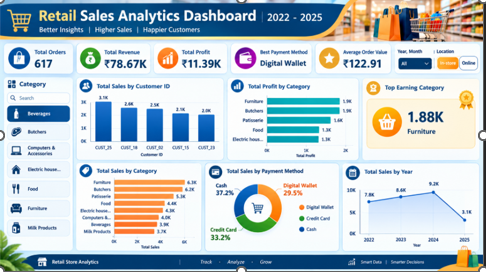

Layout of this report page (visuals, bound fields, positions):
{"tool":"powerbi","page":{"name":"Page 2","canvas":[1280,720],"ordinal":0},"visuals":[{"type":"clusteredBarChart","fields":{"Category":["Table1.Category"],"Y":["Table1.Total Sales"]},"box":[0,415,652.8,305.7],"z":0},{"type":"donutChart","fields":{"Category":["Table1.Payment Method"],"Y":["Table1.Total Sales"]},"box":[652.8,190.5,627.7,224.5],"z":1000},{"type":"lineChart","fields":{"Category":["Table1.Transaction Date.Variation.Date Hierarchy.Year","Table1.Transaction Date.Variation.Date Hierarchy.Month"],"Y":["Table1.Total Sales"]},"box":[0,204,653.1,224.6],"z":2000},{"type":"tableEx","fields":{"Values":["Table1.Transaction ID","Table1.Item","Sum(Table1.Price Per Unit)","Sum(Table1.Quantity)","Sum(Table1.Total Spent)"]},"box":[665.1,414.9,615.4,305.1],"z":3000},{"type":"textbox","box":[386.3,386.3,13.2,13.2],"z":4000},{"type":"textbox","box":[0,0,1280.5,70.2],"z":5000},{"type":"textbox","box":[0,99.5,399.5,14.6],"z":6000},{"type":"textbox","box":[99.5,99.5,300,14.6],"z":7000},{"type":"textbox","box":[0,70.2,1280.5,43.9],"z":8000},{"type":"cardVisual","fields":{"Data":["Table1.Total Sales"]},"box":[218.6,99,296.9,104.9],"z":9000},{"type":"cardVisual","fields":{"Data":["Table1.Total Orders"]},"box":[0,97.5,234.8,106.3],"z":10000},{"type":"cardVisual","fields":{"Data":["Table1.Average Order Value"]},"box":[491.8,91.6,259.9,96],"z":11000},{"type":"slicer","fields":{"Values":["Table1.Location"]},"box":[992.5,103.4,276.2,84.2],"z":12000},{"type":"slicer","fields":{"Values":["Table1.Category"]},"box":[686.8,106.3,305.7,70.9],"z":13000},{"type":"shape","box":[0,3,1280.5,103.4],"z":14000},{"type":"actionButton","box":[0,0,100,40],"z":15000},{"type":"actionButton","box":[0,0,100,40],"z":16000},{"type":"actionButton","box":[0,0,100,40],"z":17000},{"type":"actionButton","box":[0,0,100,40],"z":18000},{"type":"actionButton","box":[0,0,100,40],"z":19000},{"type":"actionButton","box":[0,0,100,40],"z":20000},{"type":"actionButton","box":[0,0,100,40],"z":21000},{"type":"actionButton","box":[0,0,100,40],"z":22000},{"type":"actionButton","box":[0,0,100,40],"z":23000},{"type":"actionButton","box":[0,0,100,40],"z":24000},{"type":"actionButton","box":[0,0,100,40],"z":25000}]}

Visuals, with their boxes in screenshot pixels (x1, y1, x2, y2), scaled from the page's 1280x720 canvas onto the 486x272 screenshot:
clusteredBarChart - Table1.Category x Table1.Total Sales: [left=0, top=157, right=248, bottom=271]
donutChart - Table1.Payment Method x Table1.Total Sales: [left=248, top=72, right=485, bottom=157]
lineChart - Table1.Transaction Date.Variation.Date Hierarchy.Year x Table1.Transaction Date.Variation.Date Hierarchy.Month: [left=0, top=77, right=248, bottom=162]
tableEx - Table1.Transaction ID x Table1.Item: [left=253, top=157, right=485, bottom=271]
textbox: [left=147, top=146, right=152, bottom=151]
textbox: [left=0, top=0, right=485, bottom=27]
textbox: [left=0, top=38, right=152, bottom=43]
textbox: [left=38, top=38, right=152, bottom=43]
textbox: [left=0, top=27, right=485, bottom=43]
cardVisual - Table1.Total Sales: [left=83, top=37, right=196, bottom=77]
cardVisual - Table1.Total Orders: [left=0, top=37, right=89, bottom=77]
cardVisual - Table1.Average Order Value: [left=187, top=35, right=285, bottom=71]
slicer - Table1.Location: [left=377, top=39, right=482, bottom=71]
slicer - Table1.Category: [left=261, top=40, right=377, bottom=67]
shape: [left=0, top=1, right=485, bottom=40]
actionButton: [left=0, top=0, right=38, bottom=15]
actionButton: [left=0, top=0, right=38, bottom=15]
actionButton: [left=0, top=0, right=38, bottom=15]
actionButton: [left=0, top=0, right=38, bottom=15]
actionButton: [left=0, top=0, right=38, bottom=15]
actionButton: [left=0, top=0, right=38, bottom=15]
actionButton: [left=0, top=0, right=38, bottom=15]
actionButton: [left=0, top=0, right=38, bottom=15]
actionButton: [left=0, top=0, right=38, bottom=15]
actionButton: [left=0, top=0, right=38, bottom=15]
actionButton: [left=0, top=0, right=38, bottom=15]
